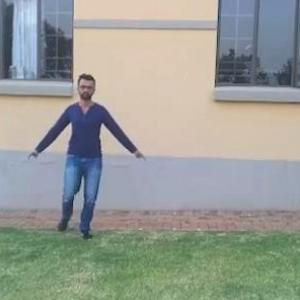land: (34, 81, 131, 228)
